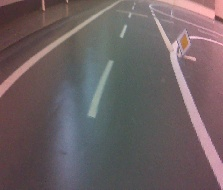priority road sign: (175, 27, 193, 57)
